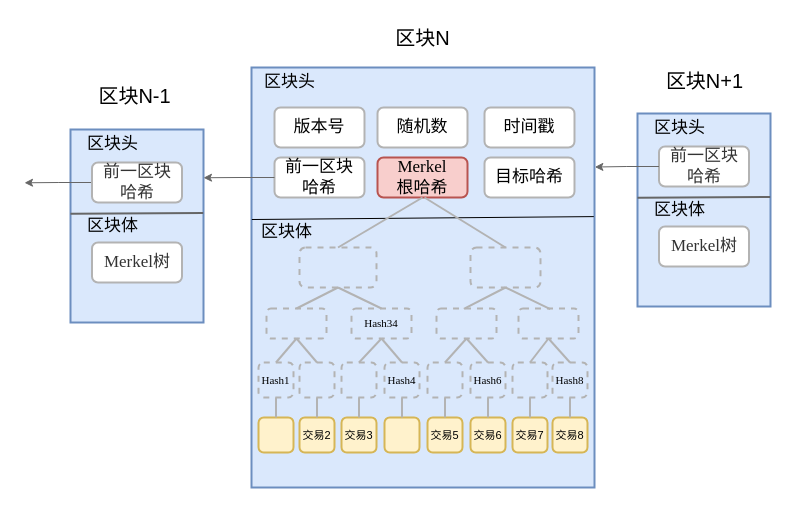
The diagram is 790 pixels wide and 505 high, and some of its shapes have lost their labels. The centre of each missing label's shape, as x and y in pixels:
"Hash12" belongs at [296,323].
"Hash1234" belongs at [337,267].
"Hash2" belongs at [316,379].
"Hash3" belongs at [358,379].
"Hash5" belongs at [444,379].
"Hash56" belongs at [466,323].
"Hash5678" belongs at [505,267].
"Hash7" belongs at [529,379].
"Hash78" belongs at [548,323].
"交易1" belongs at [275,434].
"交易4" belongs at [401,434].
